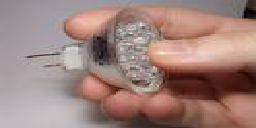LED: (76, 6, 171, 97)
